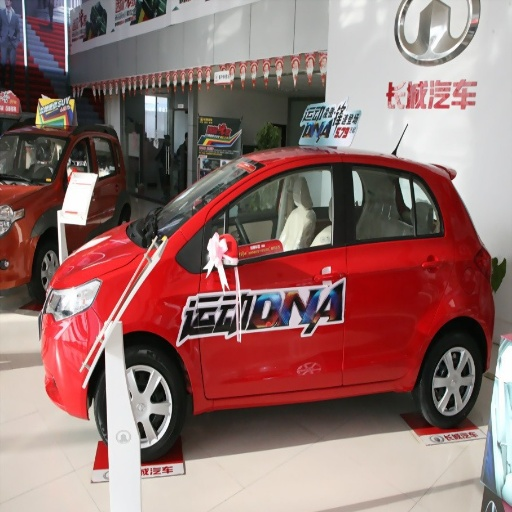front_left_door: (187, 162, 346, 397)
